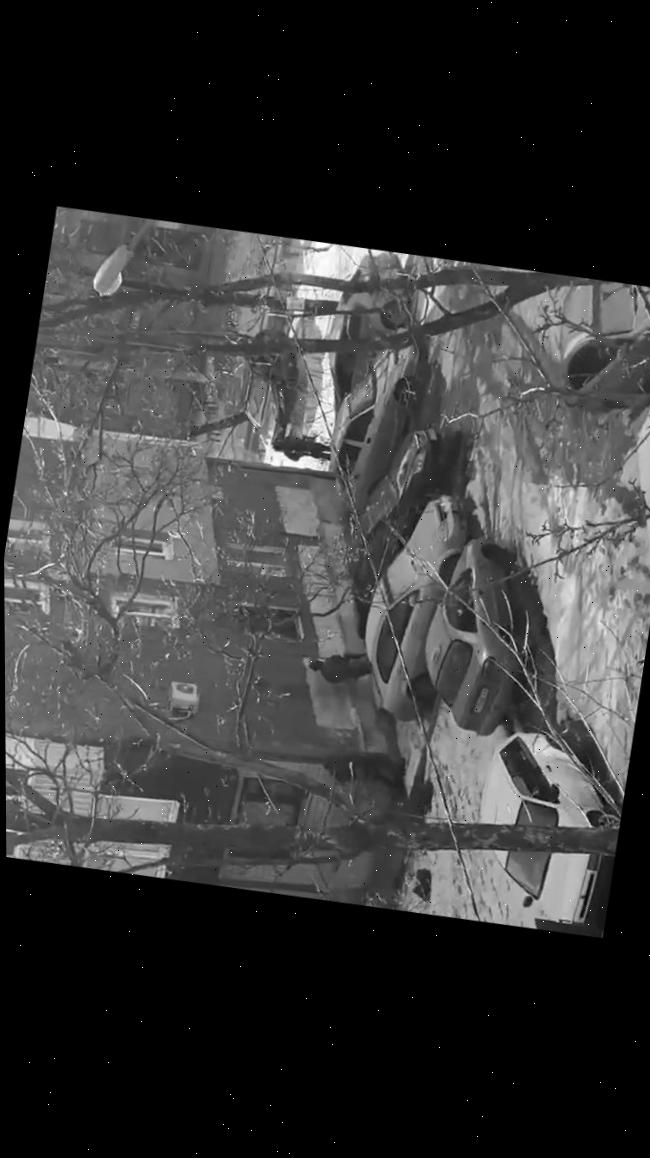car: (462, 721, 633, 940), (352, 486, 481, 728), (337, 418, 456, 651), (411, 535, 542, 743), (318, 320, 431, 517), (311, 248, 418, 445), (613, 295, 650, 584), (229, 325, 311, 454)
person: (305, 642, 380, 690), (269, 428, 335, 468)
